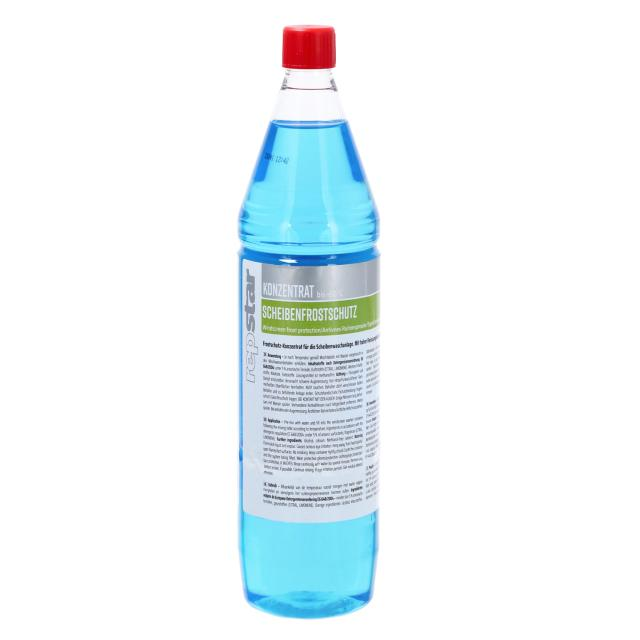winwinshield_washer: (234, 23, 386, 619)
